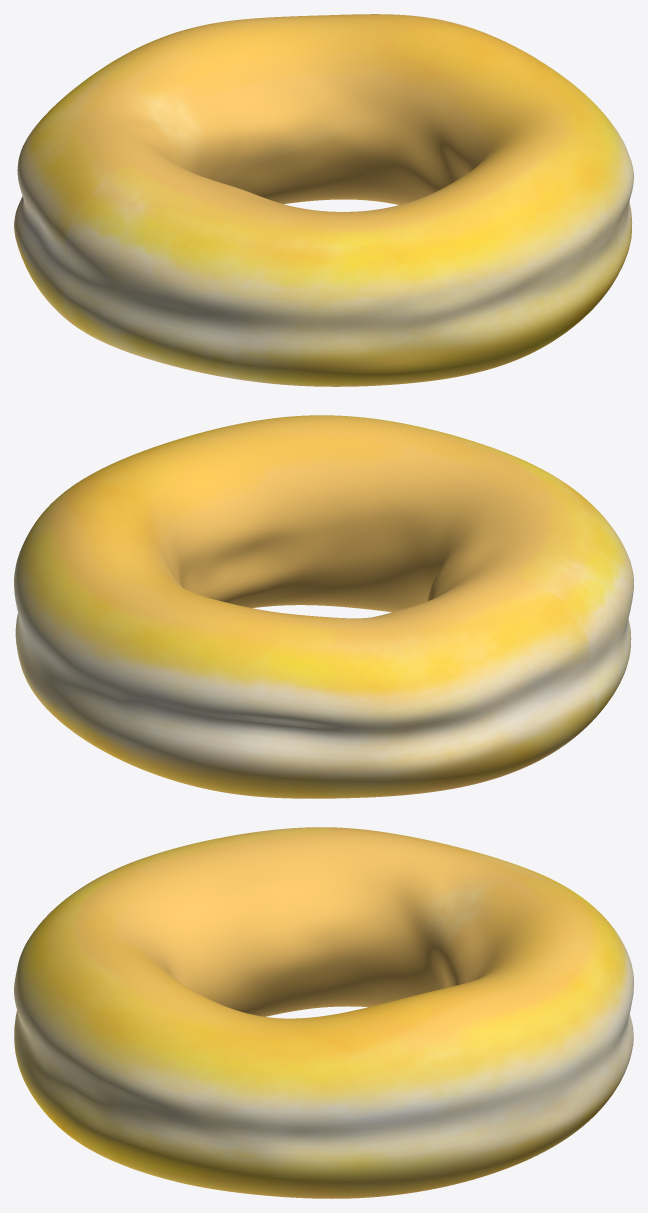
The model's file is donut.obj.
3 renders of one model, top to bottom at view 1: azimuth 30°, elevation 25°; view 2: azimuth 150°, elevation 25°; view 3: azimuth 270°, elevation 25°, orthographic. The views are drawn at different scales.
Parts seen in each view (by area): view 1: donut_Torus.001; view 2: donut_Torus.001; view 3: donut_Torus.001.
Part boxes in pixels (left/top/right/bottom): donut_Torus.001: left=14, top=14, right=633, bottom=386; donut_Torus.001: left=14, top=415, right=633, bottom=798; donut_Torus.001: left=14, top=827, right=633, bottom=1198.
Bounding box in the file's own units: 6.62 × 2.19 × 6.63.
Materials: 1 (1 with a texture image).
